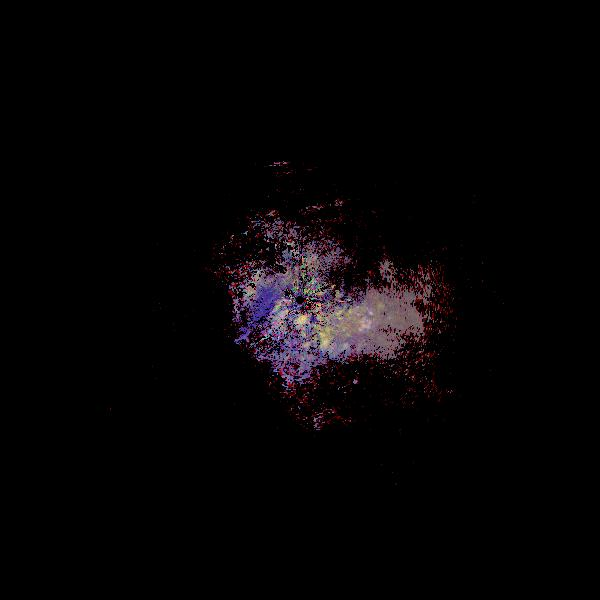roost: (329, 288, 383, 342), (274, 348, 328, 402)
